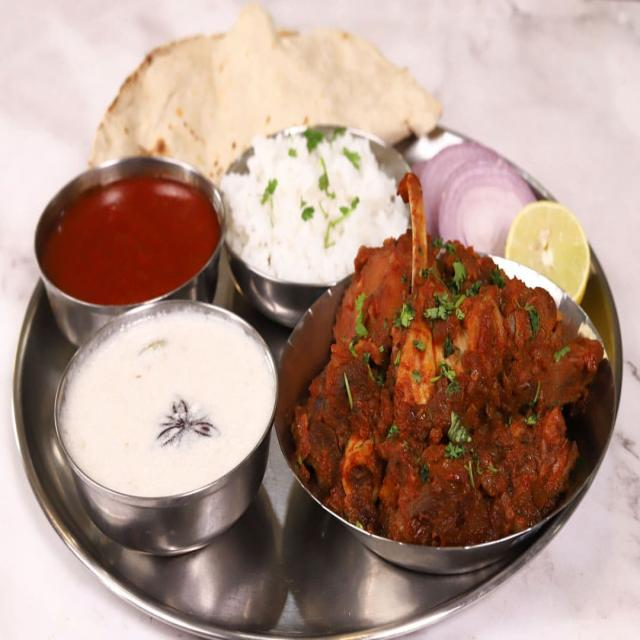non veg meals: (23, 9, 624, 589)
